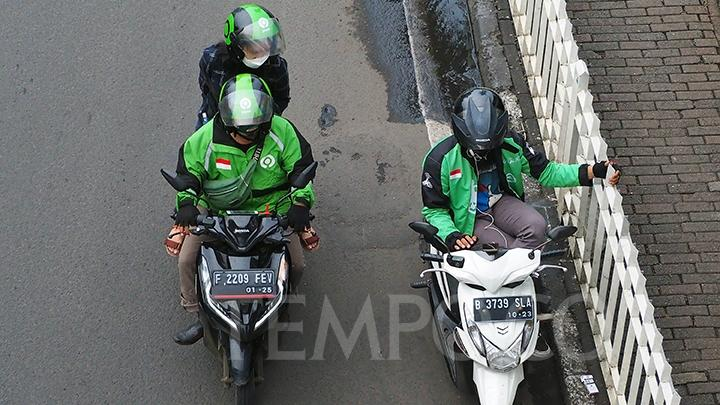motorbike: (404, 85, 626, 405), (167, 8, 325, 405)
